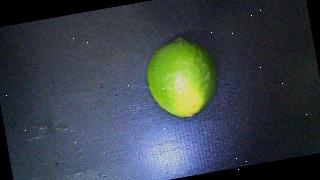EXPORTACION: (141, 33, 223, 123)
